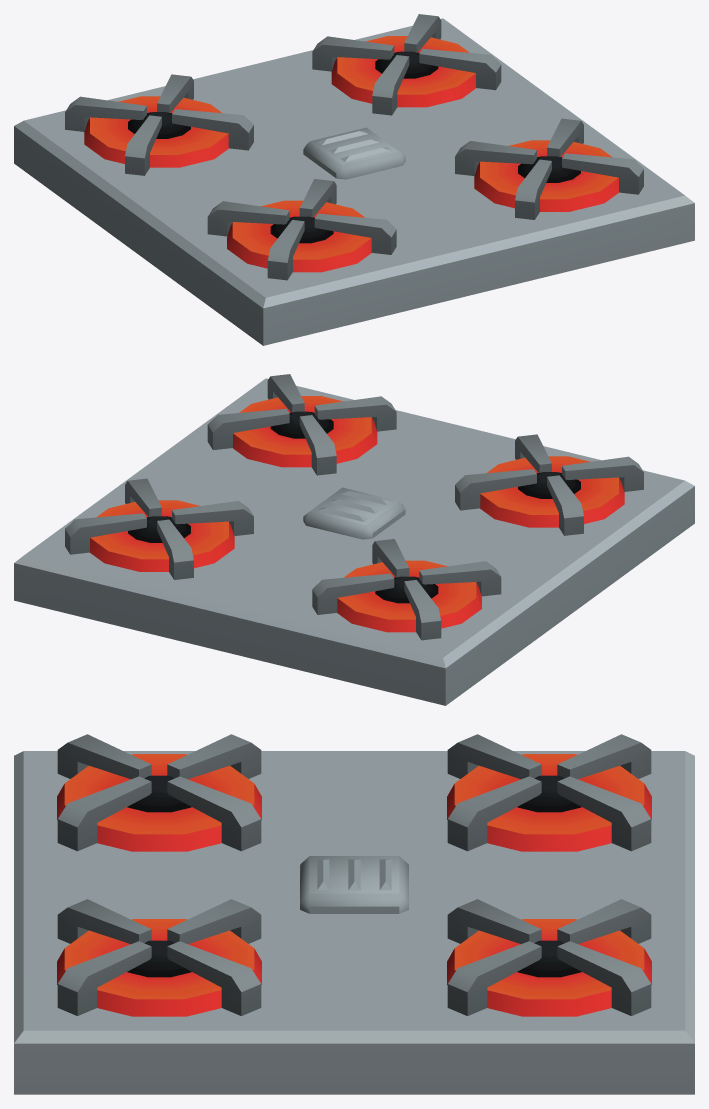
The model's file is kkr.stove_multi_countertop.glb.
3 renders of one model, top to bottom at view 1: azimuth 30°, elevation 25°; view 2: azimuth 150°, elevation 25°; view 3: azimuth 270°, elevation 25°, orthographic. The views are drawn at different scales.
Parts seen in each view (by area): view 1: stove_multi_countertop; view 2: stove_multi_countertop; view 3: stove_multi_countertop.
Part boxes in pixels (box(x1,y1,x2,y2)): stove_multi_countertop: box(14, 14, 694, 345); stove_multi_countertop: box(14, 374, 694, 705); stove_multi_countertop: box(14, 734, 694, 1094).
Bounding box in the file's own units: 1.3 × 0.2012 × 1.3.
Materials: 1 (1 with a texture image).
